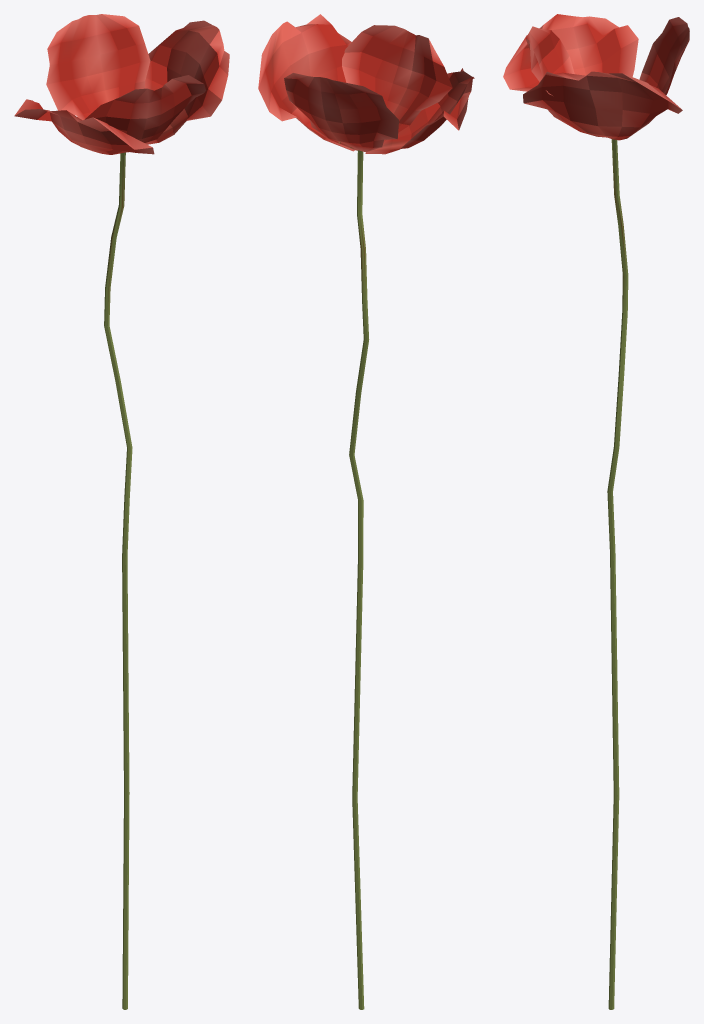
File: center_flower.glb
3 views of the same model, side by side, from view 1: azimuth 30°, elevation 25°; view 2: azimuth 150°, elevation 25°; view 3: azimuth 270°, elevation 25° (orthographic). The views are drawn at different scales.
Visible parts, largest first — view 1: petal, petal.183, stem, petal.182, petal.181; view 2: petal.182, petal, petal.183, stem, petal.181; view 3: petal.183, stem, petal.181, petal, petal.182.
Boxes of the visible parts, x1,y1,x2,y2 form: petal: (46, 14, 150, 120); petal.183: (145, 20, 229, 144); stem: (104, 152, 132, 1009); petal.182: (85, 75, 205, 142); petal.181: (14, 99, 154, 154); petal.182: (342, 25, 452, 141); petal: (284, 73, 398, 151); petal.183: (258, 14, 354, 151); stem: (349, 150, 369, 1009); petal.181: (365, 68, 474, 154); petal.183: (523, 71, 682, 140); stem: (607, 139, 628, 1009); petal.181: (503, 14, 638, 91); petal: (639, 17, 689, 94); petal.182: (526, 26, 574, 95).
Bounding box in the file's own units: 0.0553 × 0.2683 × 0.0464.
